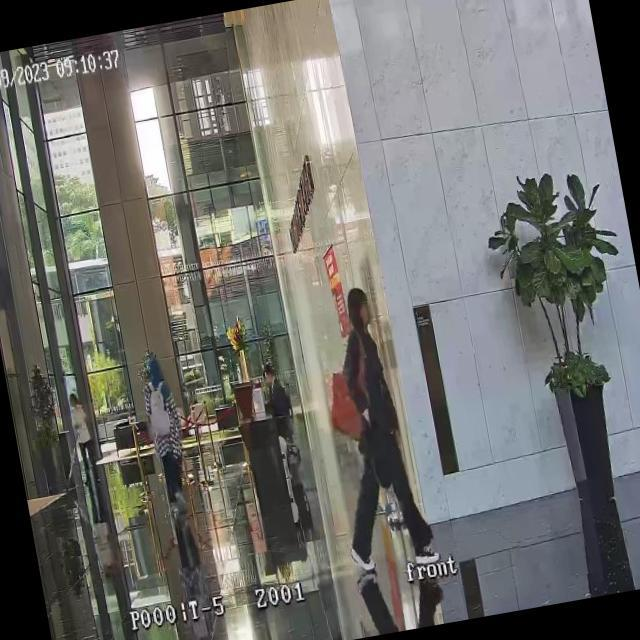person: (304, 280, 444, 589), (137, 355, 196, 525), (66, 389, 104, 488), (258, 360, 294, 434)
